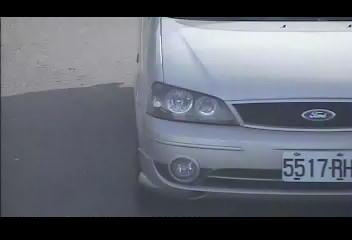plate: (281, 149, 351, 181)
